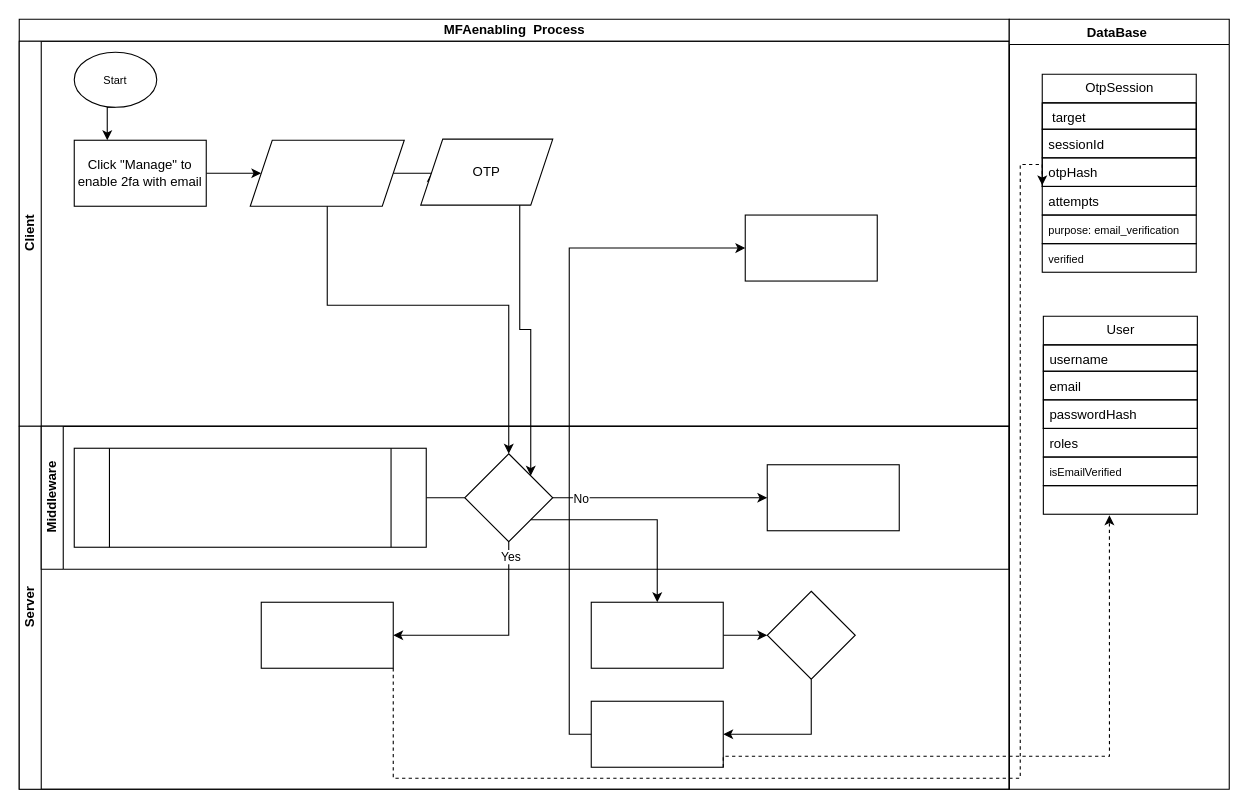
Image size: 1249x809. Some labels were removed from this diagram. Here are the shapes that lost their labels. From the top down, the centre of each, then its label:
At (x=326, y=172): "Email + password (different email)".
At (x=810, y=247): "Display succeed".
At (x=249, y=497): "Validate user authorization with access or refresh token".
At (x=508, y=497): "authorized".
At (x=832, y=497): "route to login page".
At (x=1119, y=499): "mfaEnabled".
At (x=326, y=634): "Generate OTP & send email".
At (x=656, y=634): "Veirfy OTP code".
At (x=810, y=634): "Succeed".
At (x=656, y=733): "update user mfaEnabled".
